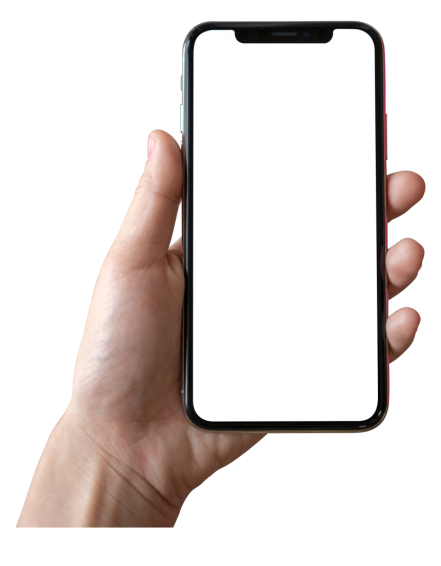phone: (177, 18, 393, 433)
